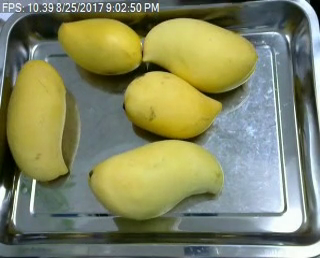Mango: (85, 137, 224, 223), (144, 16, 258, 94), (6, 61, 71, 183), (122, 71, 226, 141), (54, 14, 144, 74)
